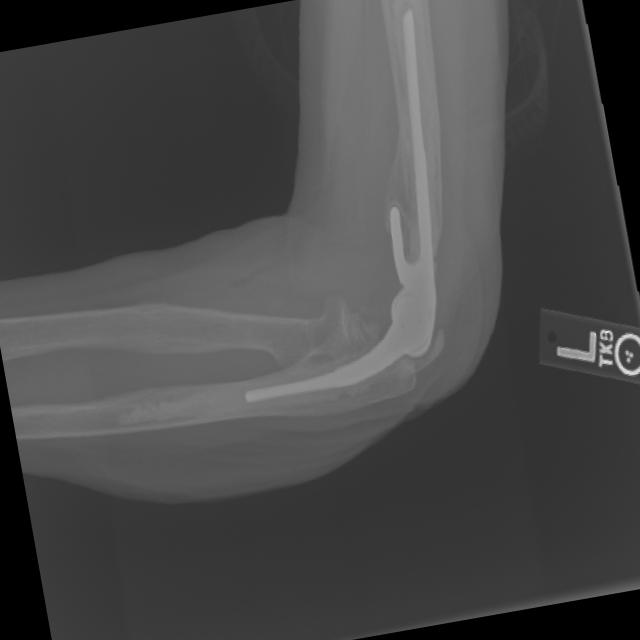elbow positive: (296, 264, 405, 372)
